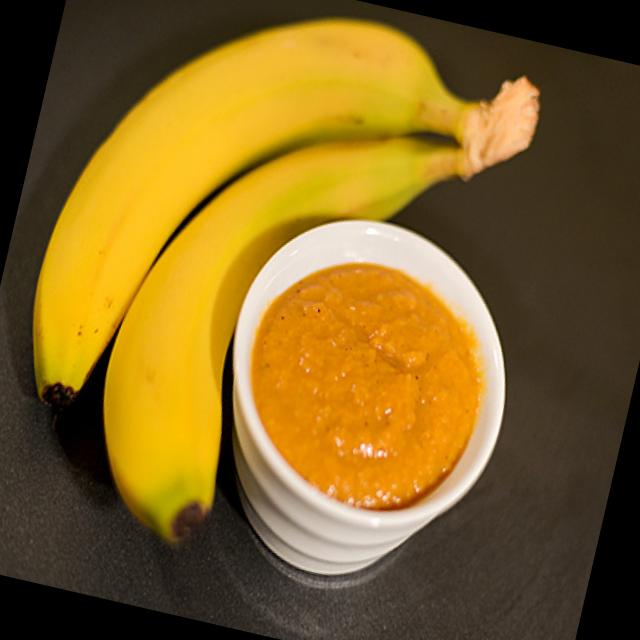banana: (69, 68, 493, 606), (6, 0, 484, 474)
